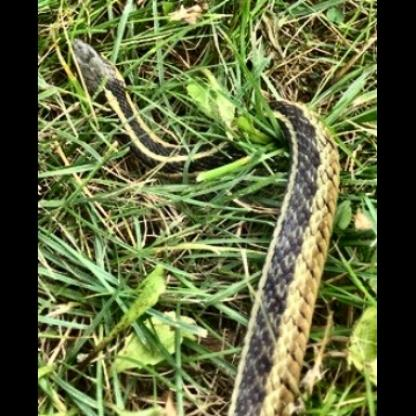Snake: (61, 30, 332, 412)
